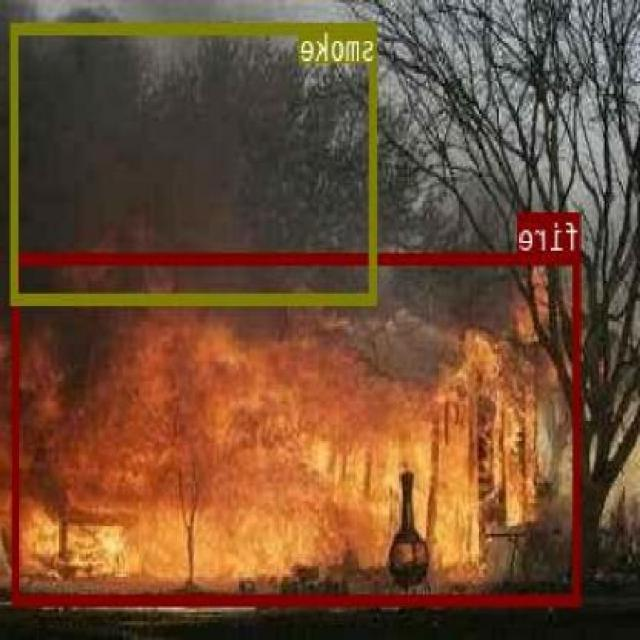Fire: (13, 252, 582, 605)
Smoke: (12, 21, 378, 304)
